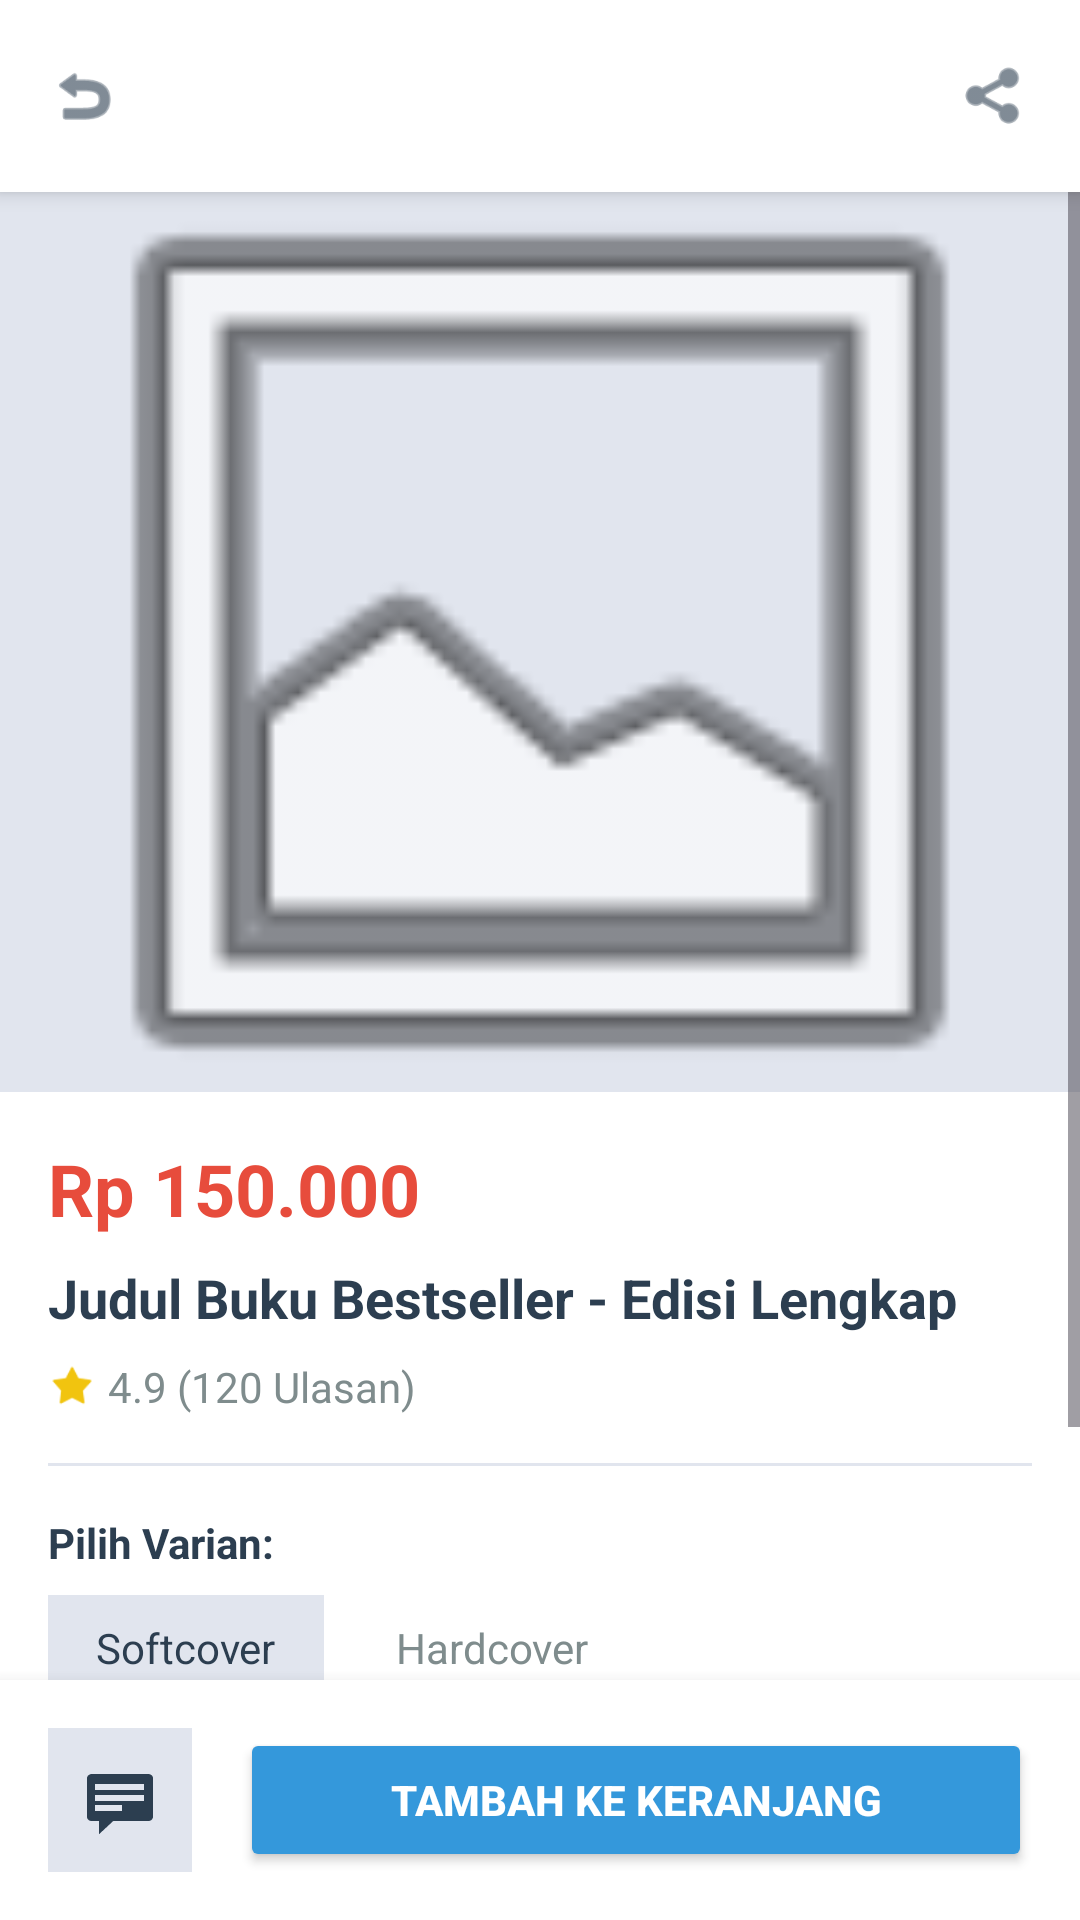

Screen size 1080 × 1920. Icon name, then its center in pixels as [x,y]:
chat: [120,1800]
revert: [85,96]
share: [992,95]
star on: [72,1385]
